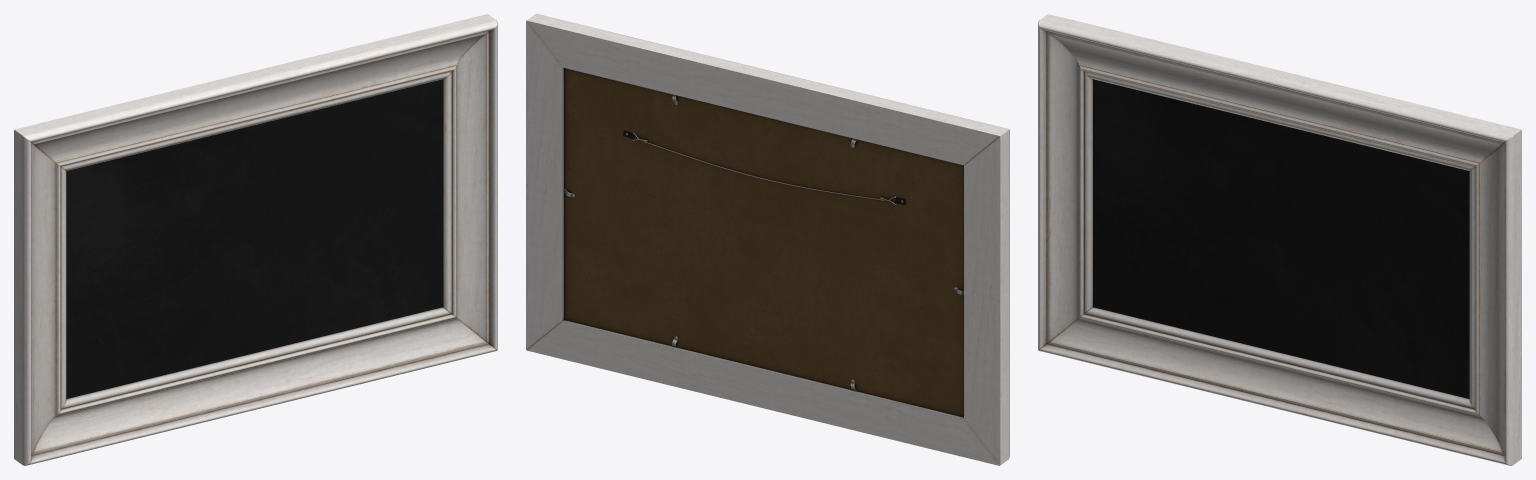
The model's file is hanging_picture_frame_02_1k.gltf.
3 renders of one model, left to right at view 1: azimuth 30°, elevation 25°; view 2: azimuth 150°, elevation 25°; view 3: azimuth 330°, elevation 25°, orthographic.
Visible parts, largest first — view 1: hanging_picture_frame_02; view 2: hanging_picture_frame_02; view 3: hanging_picture_frame_02.
Boxes of the visible parts, x1,y1,x2,y2 form: hanging_picture_frame_02: (14,14,497,465); hanging_picture_frame_02: (526,14,1009,465); hanging_picture_frame_02: (1038,14,1521,465).
Size of the model in its own units: 0.7518 by 0.5 by 0.033.
Materials: 3 (3 with a texture image).
